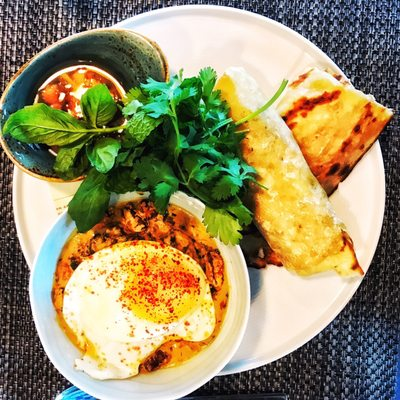sushi: (1, 5, 399, 366), (41, 198, 250, 397)
